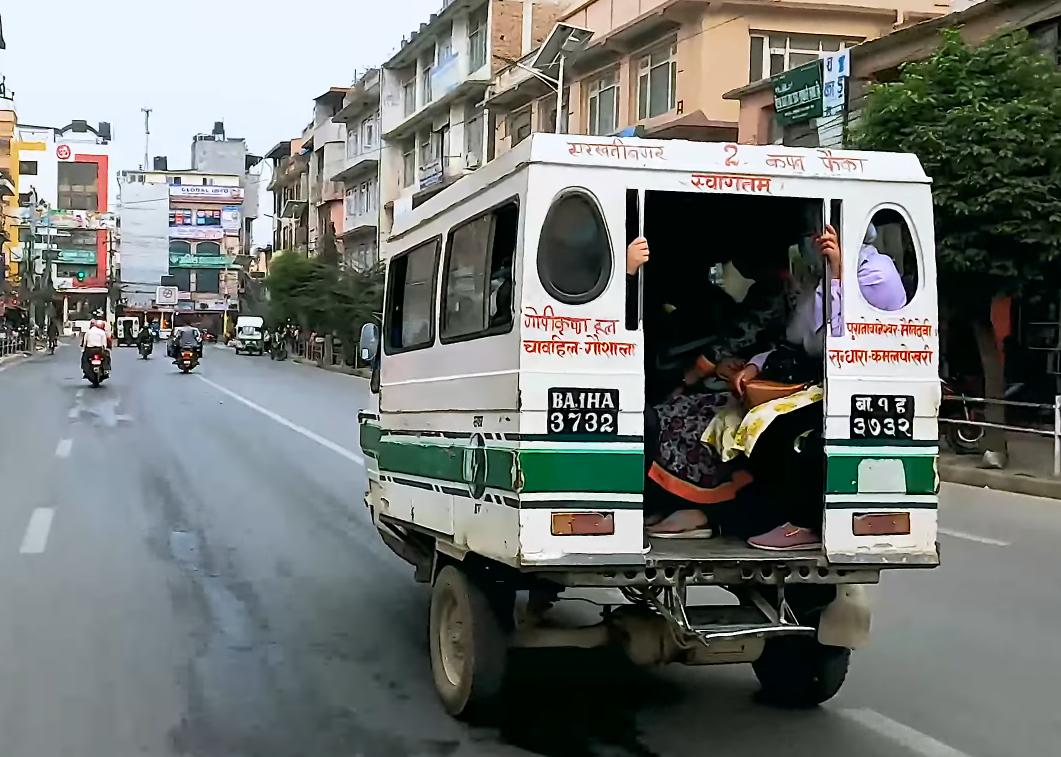bike: (81, 333, 112, 391)
scooter: (166, 327, 204, 379)
tempo: (333, 126, 969, 730), (232, 316, 268, 358), (112, 312, 140, 348)
